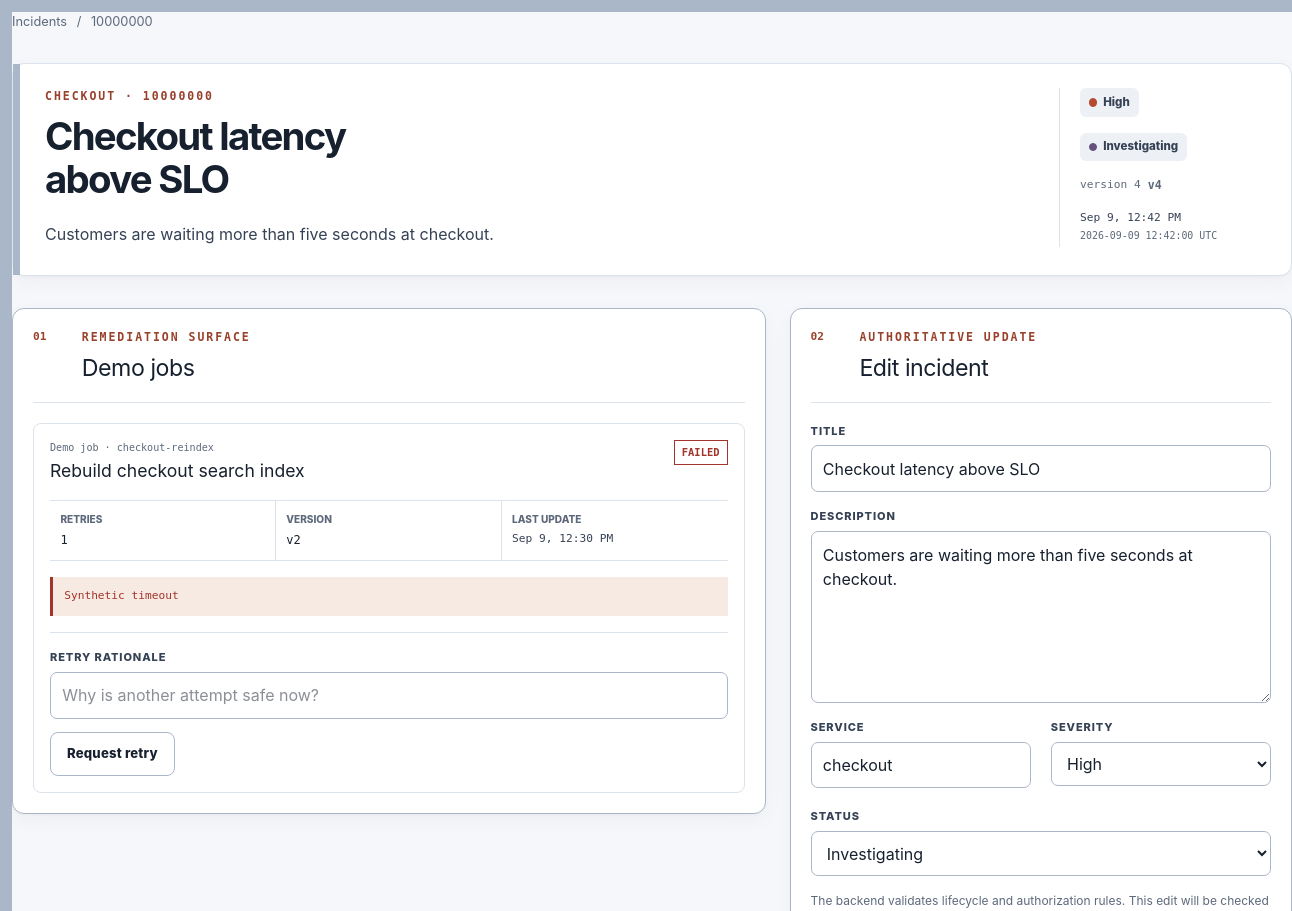
it: IncidentDetailScreen › requests a retry and renders the backend-returned decision
The image size is (1292, 911).
Type "The first automated retry did not recover checkout." into the field labelled "Retry rationale" at (389, 695), box [50, 672, 728, 719]
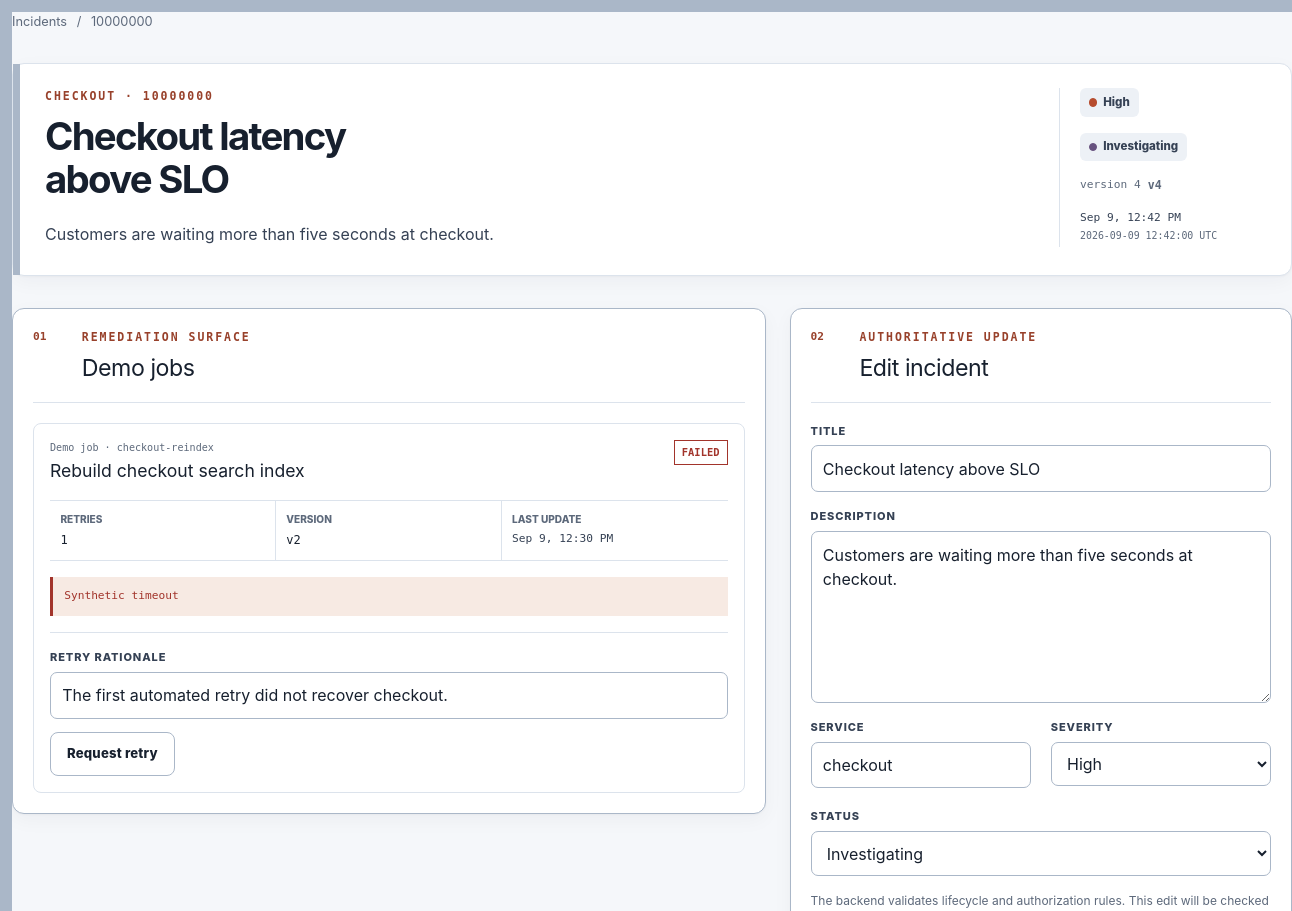
Click the button "Request retry" at (112, 754), box [50, 732, 175, 776]
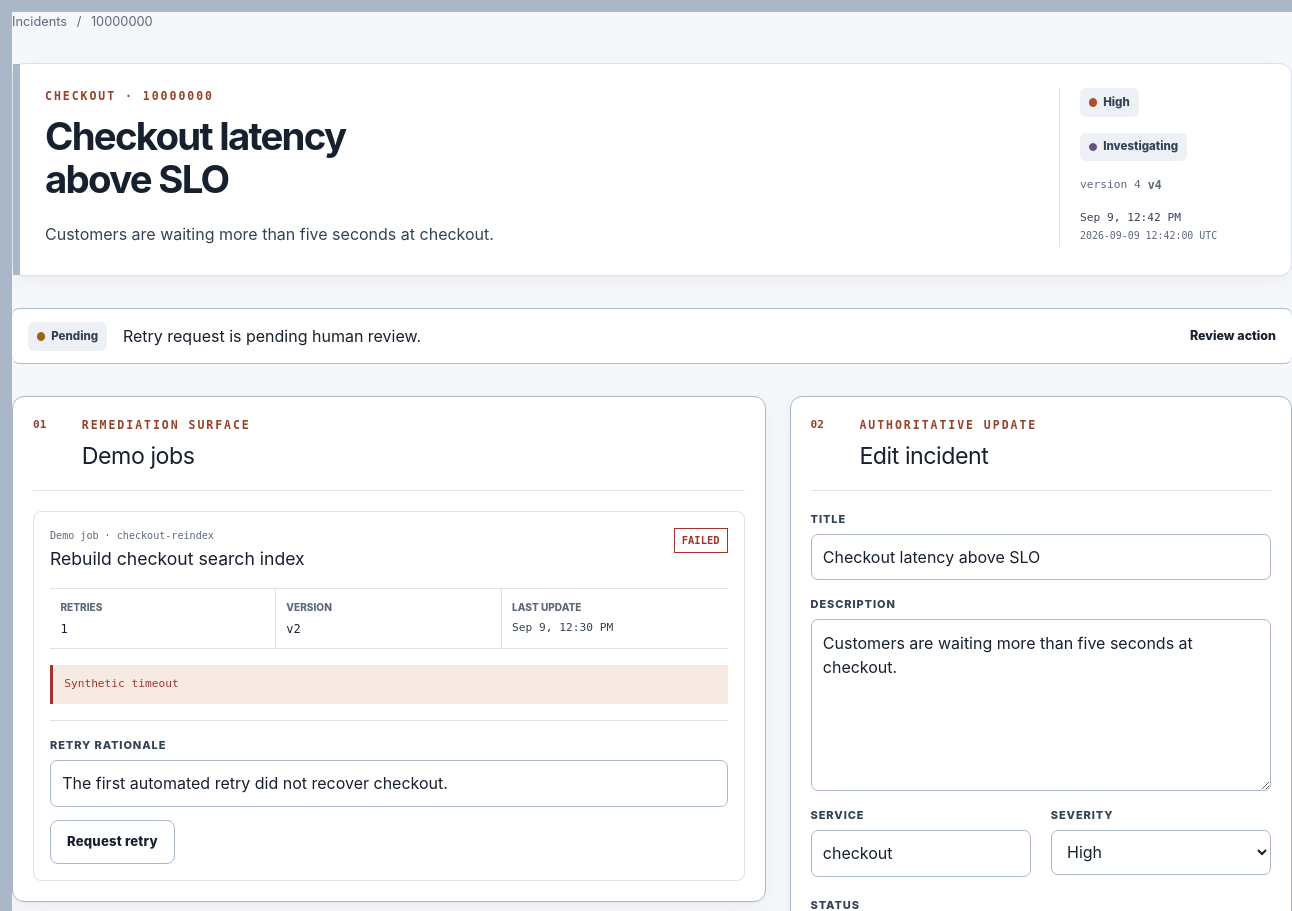
Check: the text "Retry request is pending human review." is shown, box [123, 326, 421, 346]
